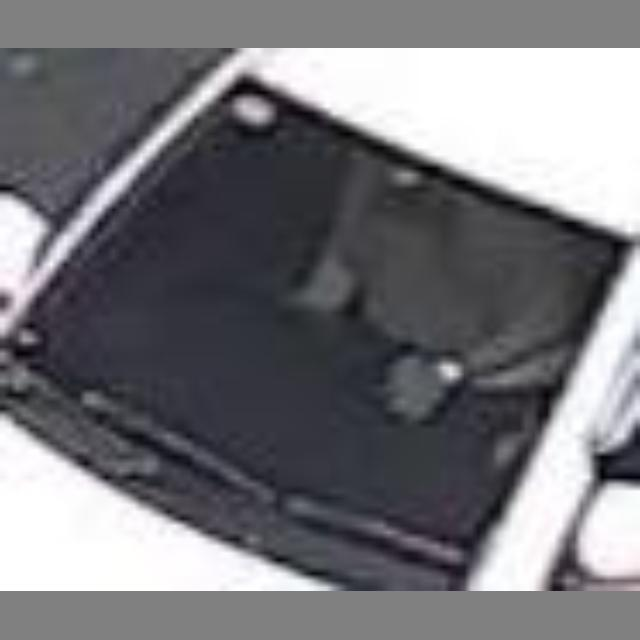tidak-pakai: (255, 158, 523, 454)
